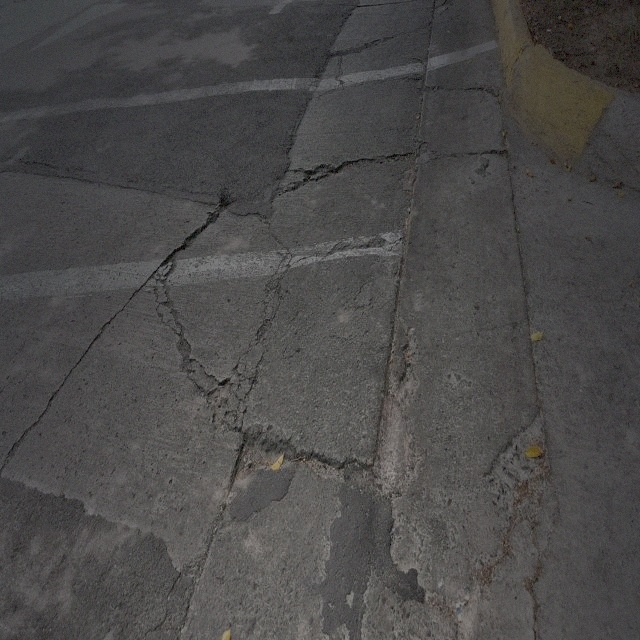pothole: (370, 330, 418, 499), (484, 406, 546, 514), (229, 420, 296, 486), (302, 447, 349, 490), (206, 377, 232, 414), (176, 334, 194, 376), (254, 316, 271, 347)
